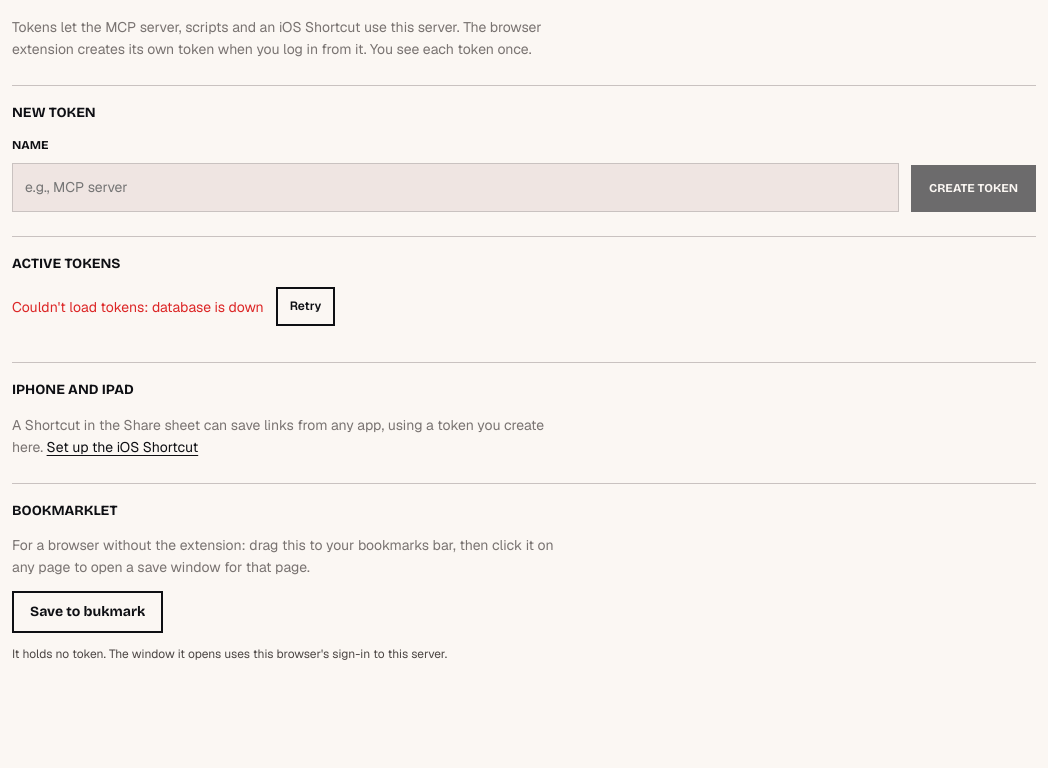
Scenario: TokensPage › reports a failed token list instead of claiming there are none, and retries
The width and height of the screenshot is (1048, 768).
Expected: the message reads "Couldn't load tokens: database is down", [12, 296, 264, 318]
Click the button "Retry": (305, 307) [276, 287, 335, 326]
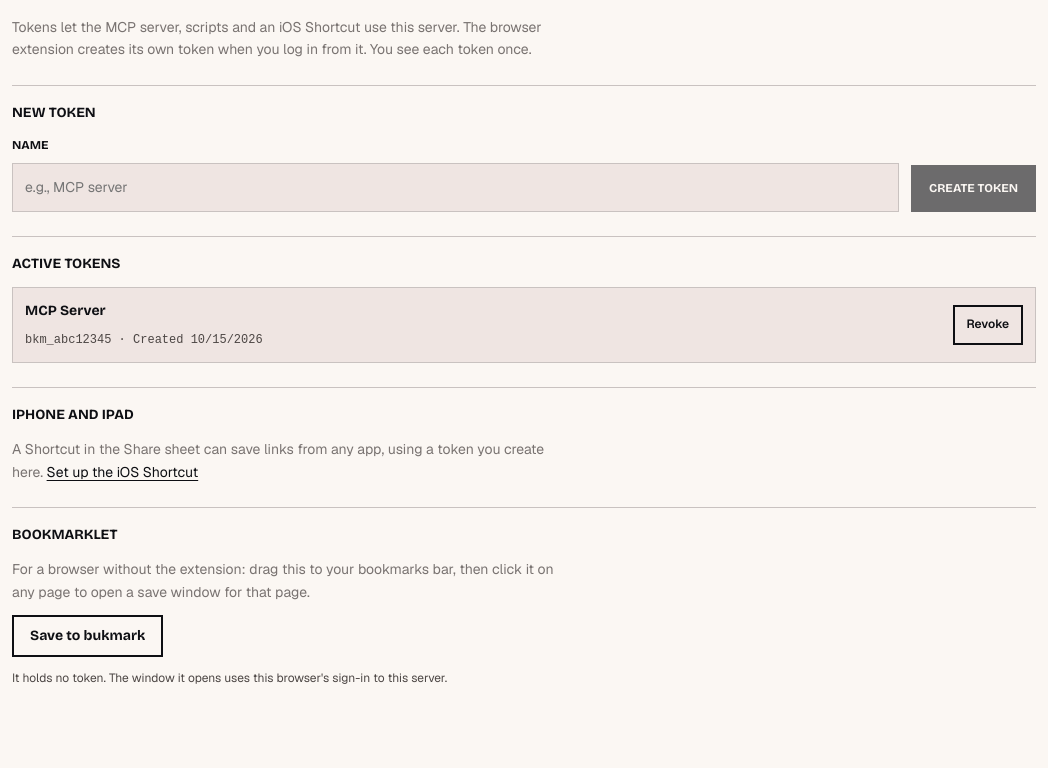
Expected: the text "MCP Server" is shown, [25, 302, 106, 319]
Expected: the message "Couldn't load tokens: database is down" is gone
